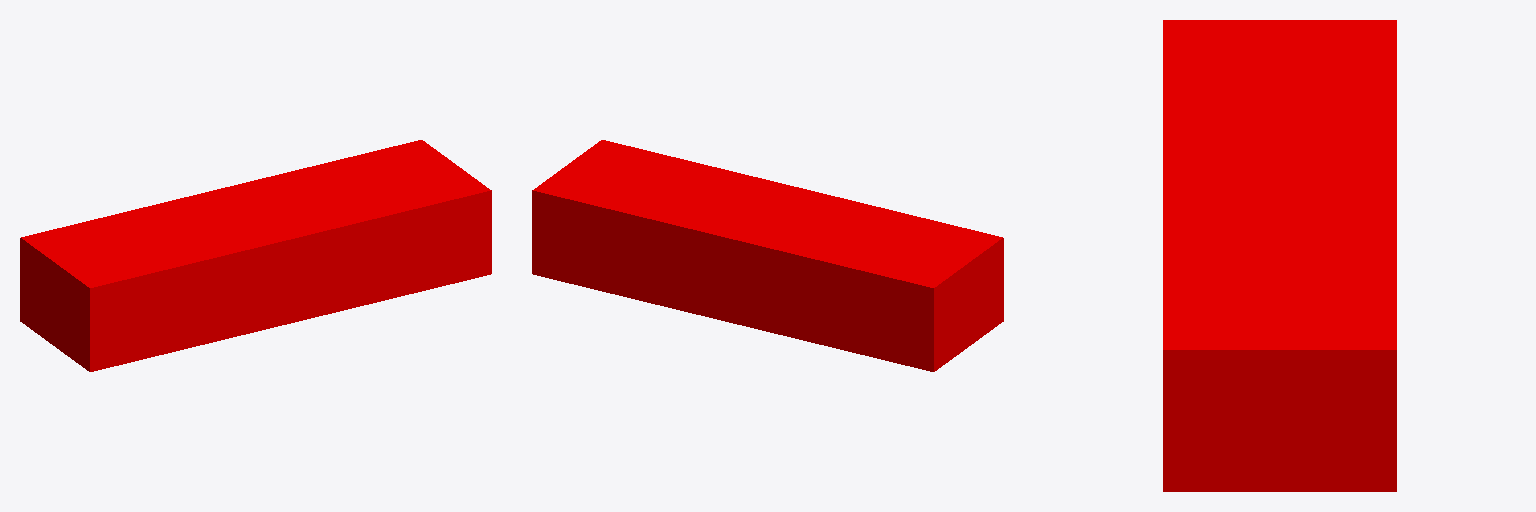
The robot description file, URDF, robot "wall":
<?xml version="1.0"?>
<robot name="wall">
	<link name="base">
	<inertial>
        	 <origin xyz="0 0 0" rpy="0 0 0"/>
        	 <mass value="3"/>
        	 <inertia ixx="0.000683333"  ixy="0"  ixz="0" iyy="0.000683333" iyz="0" izz="0.000683333" />
       </inertial>
		<visual>
			<origin xyz="0 0 0" rpy="0 0 0" />
			<geometry>
				<box size="0.1 0.03 0.02" />
			</geometry>
			<material>
				<color rgba="1 0 0 1" />
			</material>
		</visual>
	<collision>
            <origin xyz="0 0 0" rpy="0 0 0" />
            <geometry>
				<box size="0.1 0.03 0.02" />
            </geometry>
        </collision>
	</link>
</robot>

--- What the picture shows (computed from the rendered views, not written in the file) ---
Views: 3 orthographic renders of the robot side by side, from view 1: azimuth 30°, elevation 25°; view 2: azimuth 150°, elevation 25°; view 3: azimuth 270°, elevation 25°.
Model wall with 1 links and 0 joints (none), rooted at base, posed all joints at 0.
Visible links, largest first — view 1: base; view 2: base; view 3: base.
Link boxes in pixels (x1,y1,x2,y2): base: [20, 140, 491, 371]; base: [532, 140, 1003, 371]; base: [1163, 20, 1396, 491].
Size in the robot's own frame: 0.1 by 0.03 by 0.02 metres.
Geometry: primitives only (box / cylinder / sphere), no mesh files.
